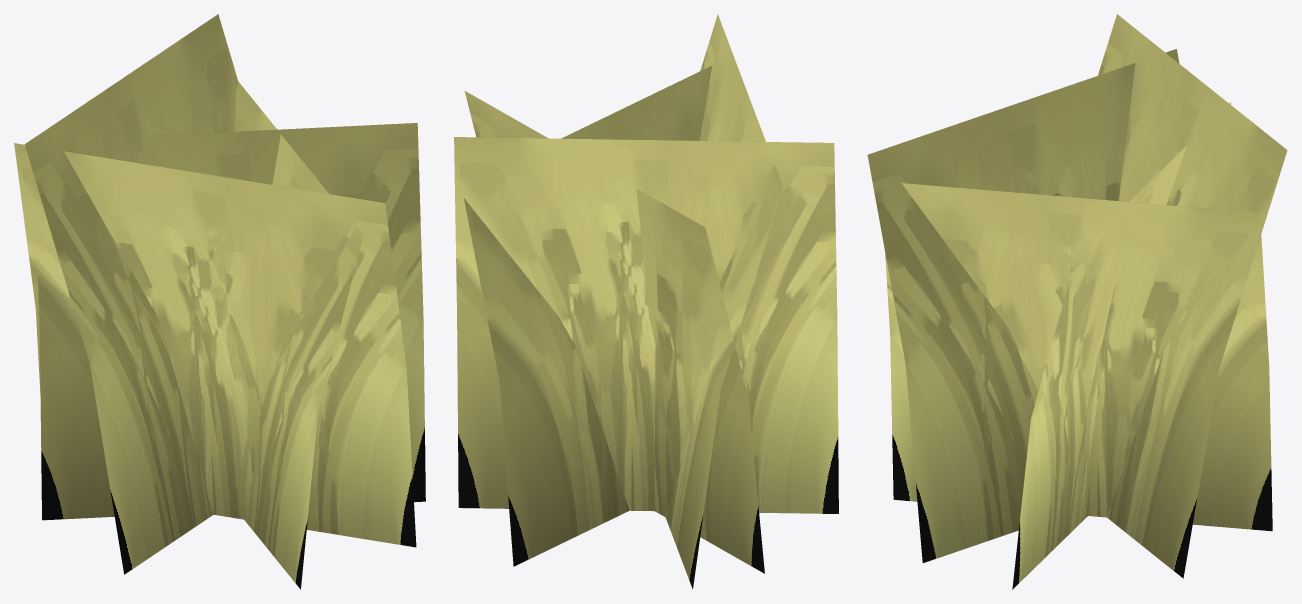
Rendered from beach_grass_1.glb.
3 renders of one model, left to right at view 1: azimuth 30°, elevation 25°; view 2: azimuth 150°, elevation 25°; view 3: azimuth 270°, elevation 25°, orthographic. The views are drawn at different scales.
Parts seen in each view (by area): view 1: beach_grass_1; view 2: beach_grass_1; view 3: beach_grass_1.
Boxes of the visible parts, x1,y1,x2,y2 form: beach_grass_1: [14, 14, 425, 589]; beach_grass_1: [454, 14, 838, 589]; beach_grass_1: [867, 14, 1287, 589].
Bounding box in the file's own units: 0.8361 × 0.8656 × 0.8128.
Materials: 1 (1 with a texture image).
